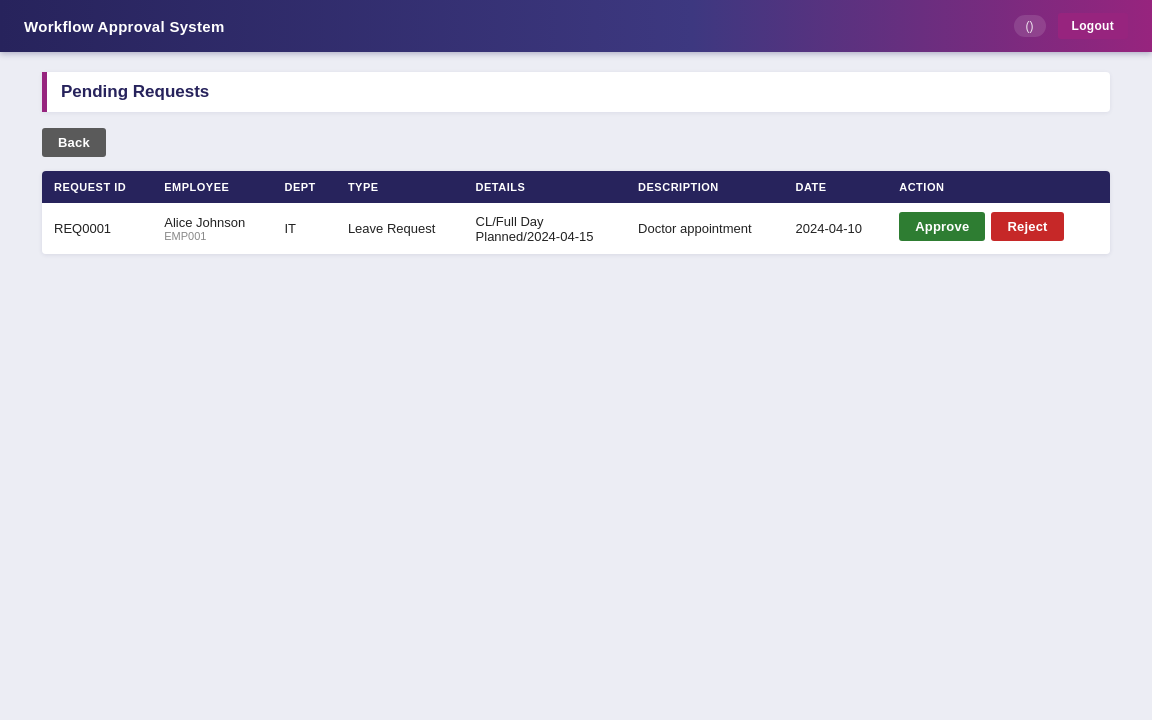
Scenario: PendingRequests › modal closes when Cancel is clicked
The width and height of the screenshot is (1152, 720).
Expected: the text "Alice Johnson" is shown, [164, 215, 245, 230]
Click the button "Approve": coordinates (942, 226) [899, 212, 985, 241]
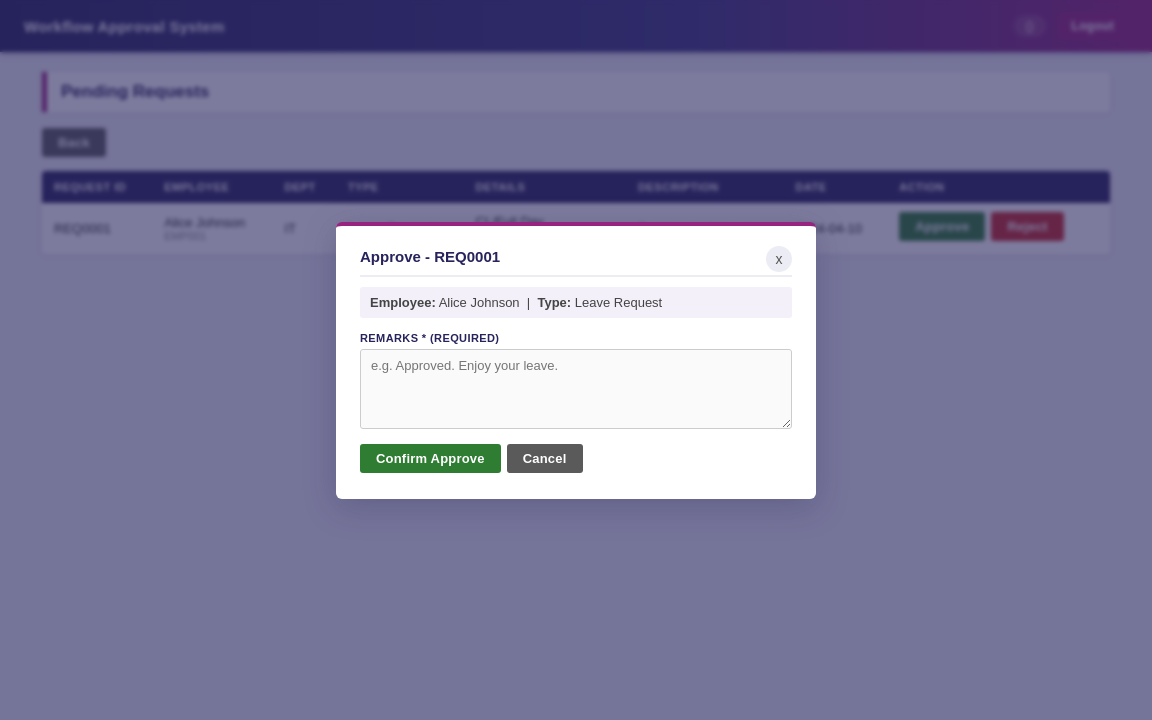
Click the button "Cancel": coordinates (545, 458) [507, 444, 582, 472]
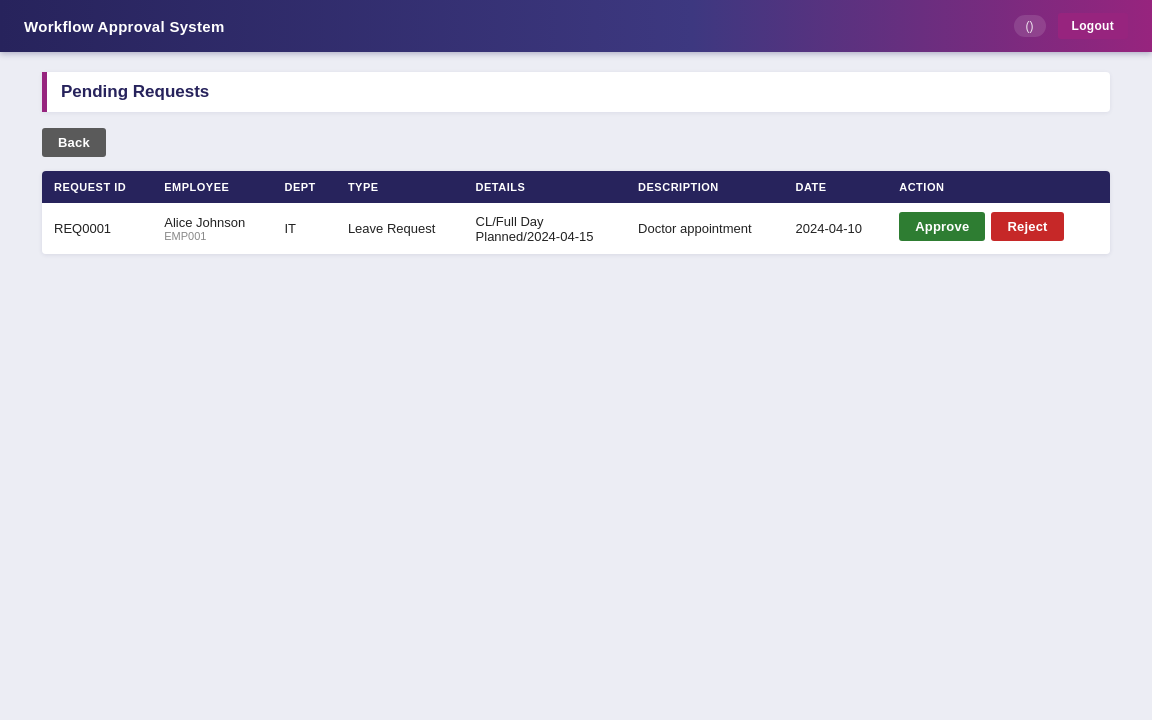
Now the button "Confirm Approve" is gone
